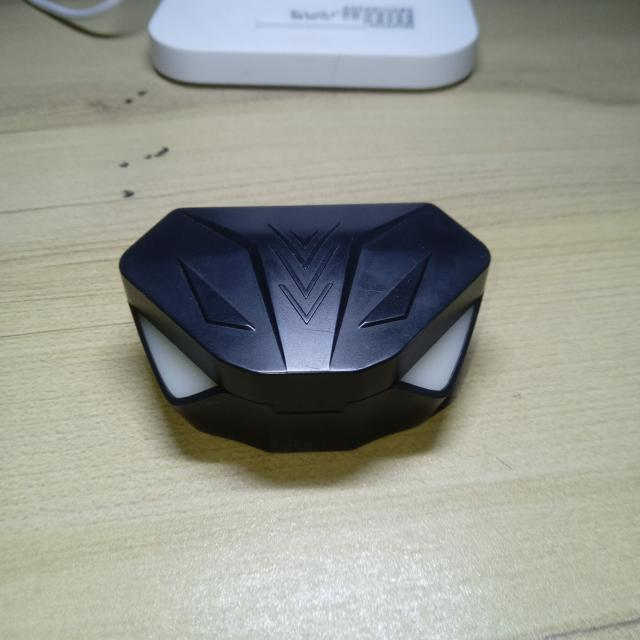earpods: (111, 194, 497, 462)
